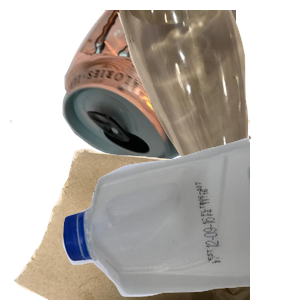glass: (115, 10, 300, 190)
metal: (60, 10, 300, 175)
plastic: (60, 135, 300, 300)
trash: (10, 120, 250, 300)
